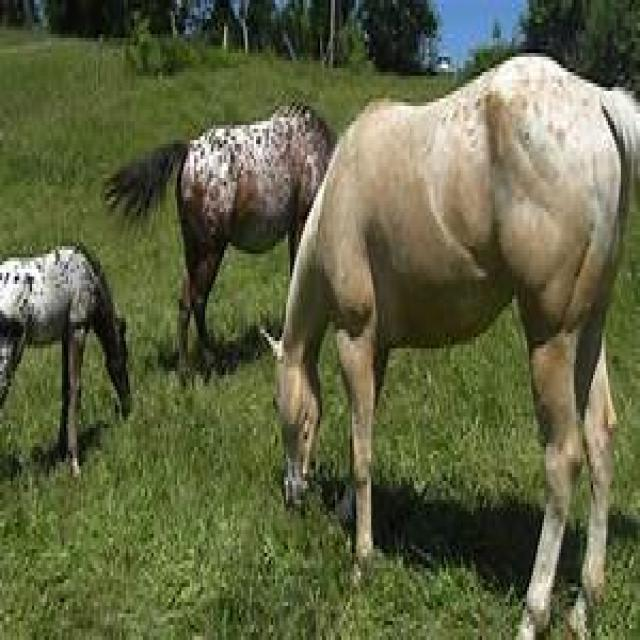horse: (273, 53, 640, 640), (102, 106, 339, 375), (0, 242, 132, 477)
